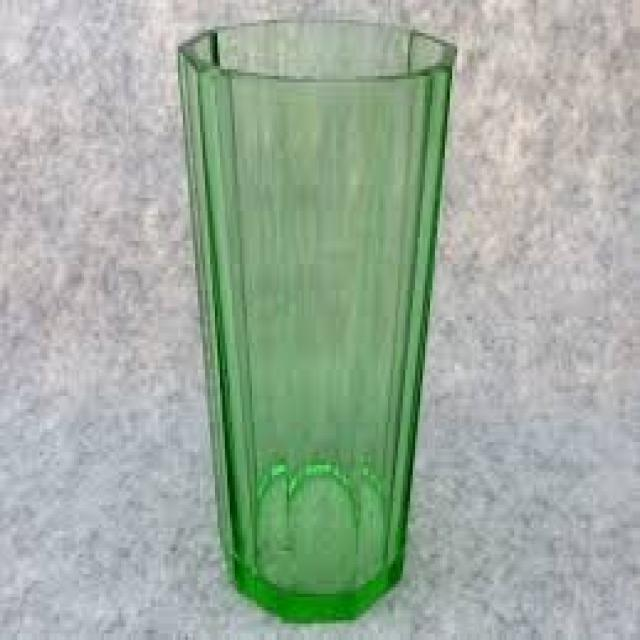glass: (176, 20, 455, 617)
